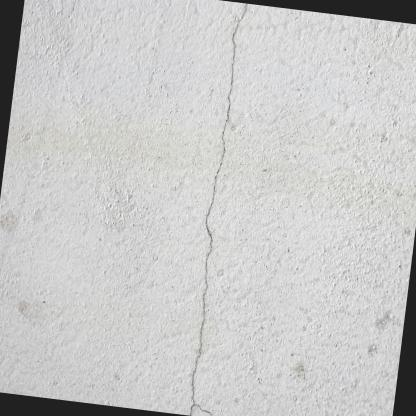crack: (185, 3, 247, 416)
